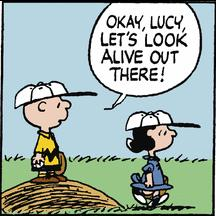charlie: (14, 79, 72, 183)
